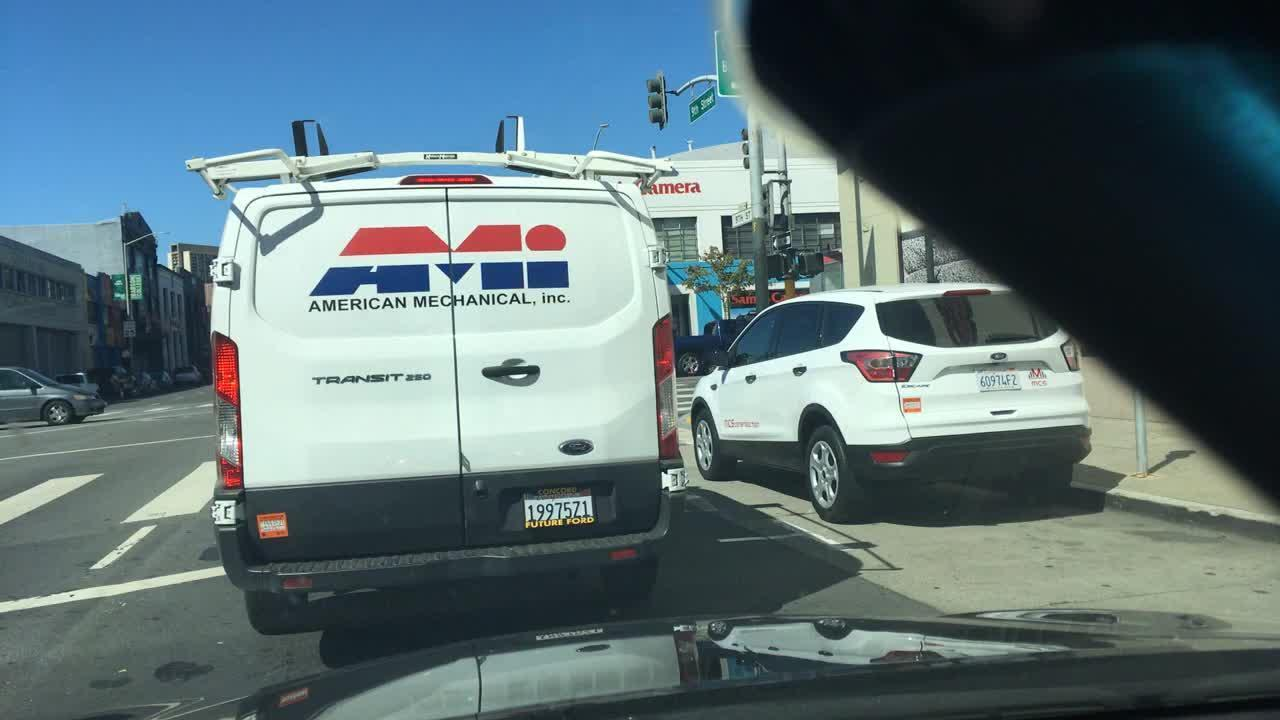ford: (557, 435, 598, 459), (988, 349, 1011, 365)
